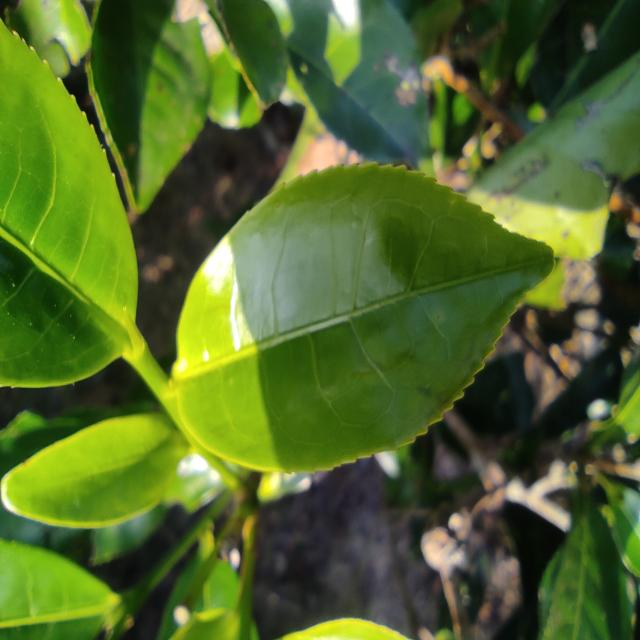Category B(2-4 days): (153, 134, 562, 493)
